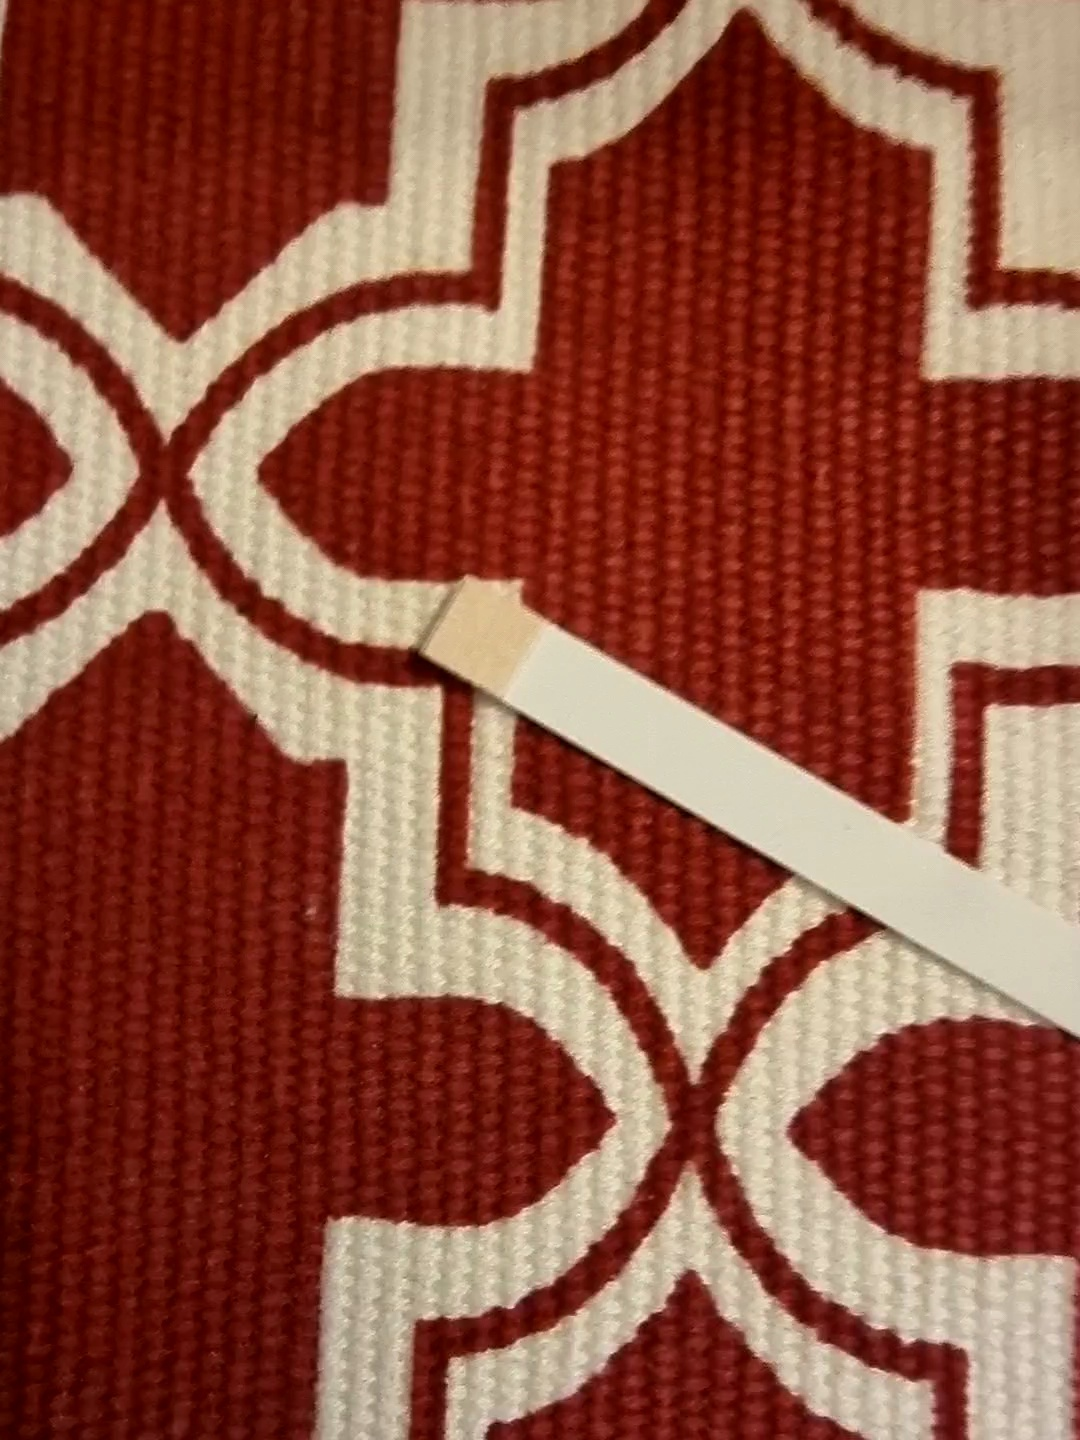keto-tip: (415, 571, 554, 709)
